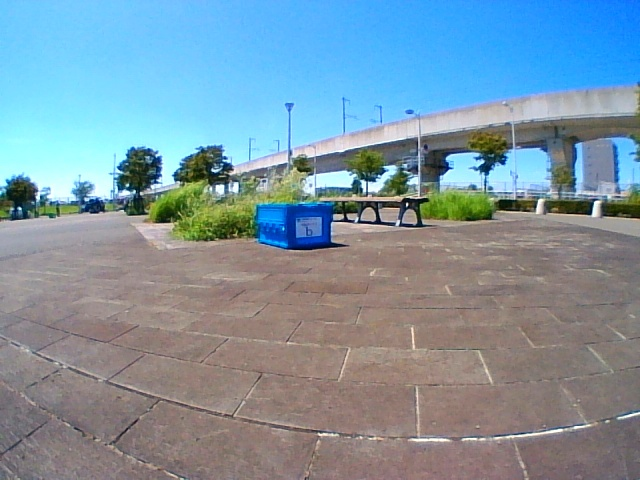blue_box: (259, 205, 331, 244)
tag_b: (296, 219, 321, 237)
